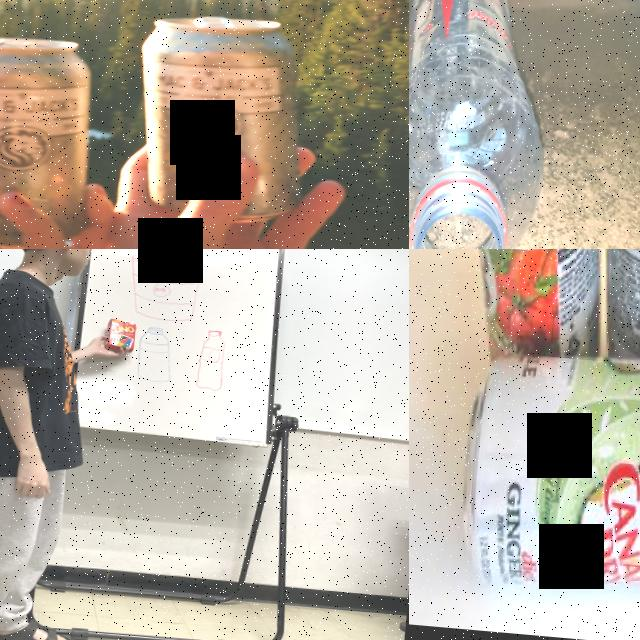bottle: (409, 0, 566, 249)
can: (456, 340, 640, 612), (128, 9, 314, 228), (0, 27, 98, 249), (449, 249, 623, 372)
